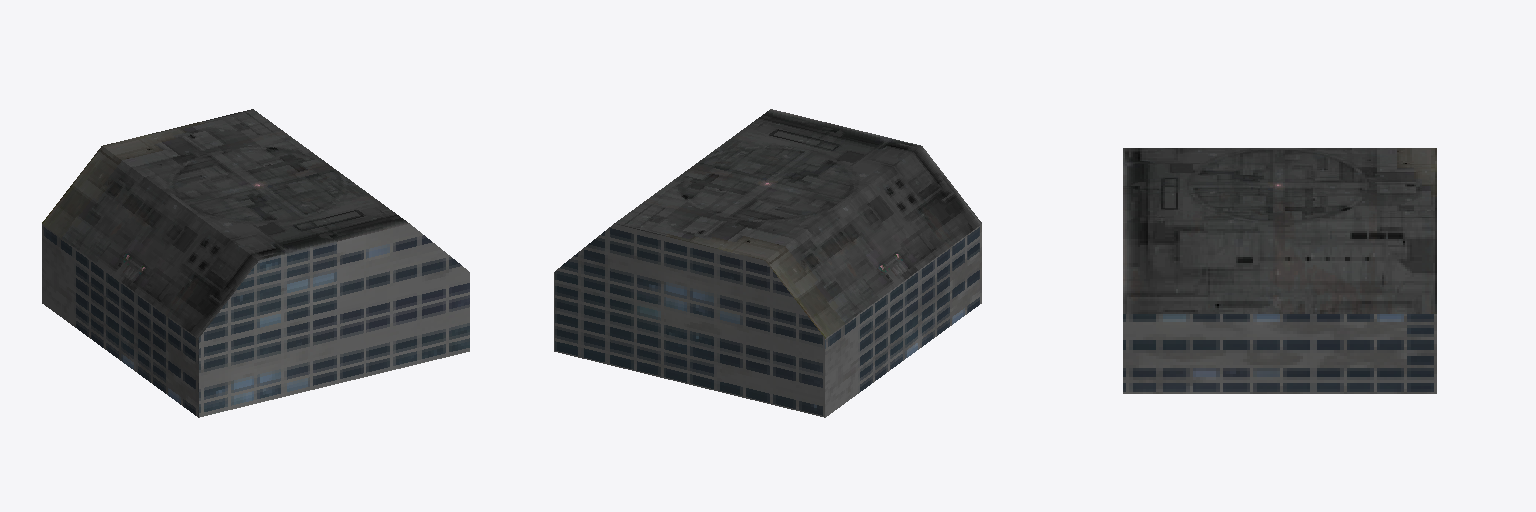
3 renders of one model, left to right at view 1: azimuth 30°, elevation 25°; view 2: azimuth 150°, elevation 25°; view 3: azimuth 270°, elevation 25°, orthographic.
Visible parts, largest first — view 1: building_21; view 2: building_21; view 3: building_21.
Part boxes in pixels (x1,y1,x2,y2): building_21: (42, 109, 469, 417); building_21: (554, 109, 981, 417); building_21: (1123, 148, 1436, 393).
Size of the model in its own units: 62.29 by 31.15 by 62.29.
1 materials, 1 textured.